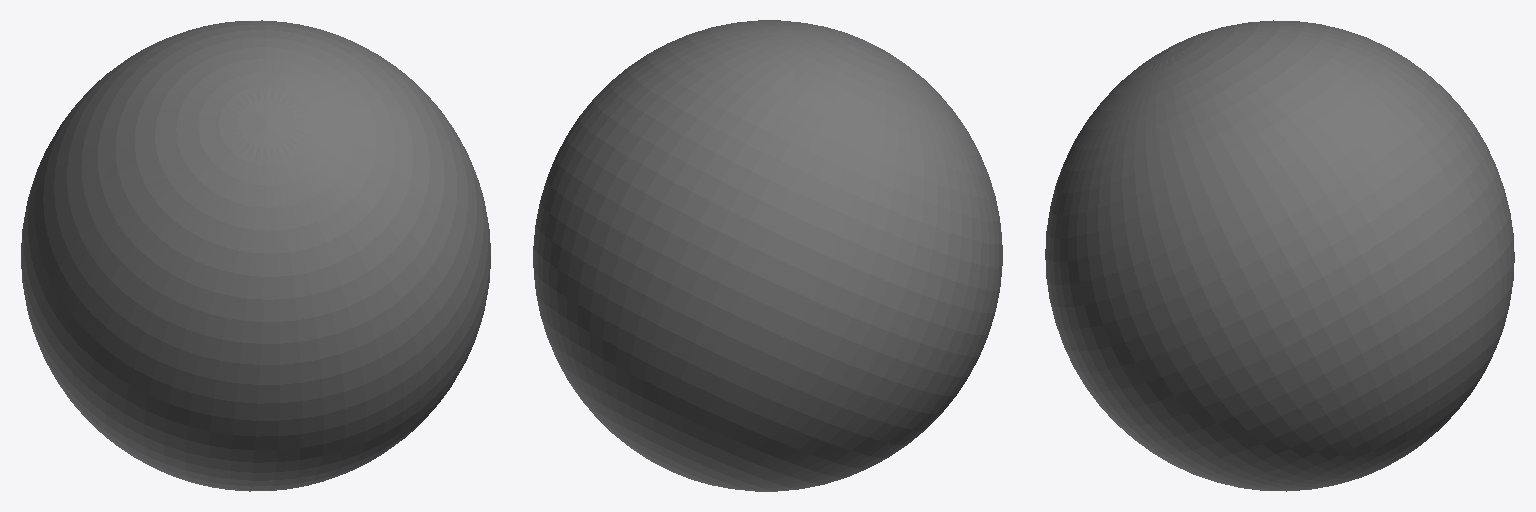
URDF robot description (7_ball):
<?xml version="1.0"?>
<robot name="7_ball">
  <link name="base">
    <visual>
      <geometry>
        <mesh filename="7_ball.obj" scale="1 1 1"/>
      </geometry>
      <material name="gray">
        <color rgba="0.5 0.5 0.5 1.0"/>
      </material>
    </visual>
    <collision>
      <geometry>
        <mesh filename="7_ball.obj" scale="1 1 1"/>
      </geometry>
    </collision>
    <inertial>
      <mass value="1.000"/>
      <inertia
          ixx="0.001034" ixy="0.000000" ixz="0.000000"
          iyy="0.001032" iyz="0.000000"
          izz="0.001030"/>
      <origin xyz="0.124680 -0.001430 0.833091" rpy="0 0 0"/>
    </inertial>
  </link>
</robot>

--- What the picture shows (computed from the rendered views, not written in the file) ---
The picture shows the robot from 3 angles, left to right: view 1: azimuth 30°, elevation 25°; view 2: azimuth 150°, elevation 25°; view 3: azimuth 270°, elevation 25°; orthographic projection.
Model 7_ball with 1 links and 0 joints (none), rooted at base, posed every joint at zero.
Links seen in each view (by area): view 1: base; view 2: base; view 3: base.
Boxes of the visible links, left/top/right/bottom form: base: left=21, top=20, right=490, bottom=491; base: left=533, top=20, right=1002, bottom=491; base: left=1045, top=20, right=1514, bottom=491.
Size in the robot's own frame: 0.0785 by 0.0787 by 0.0789 metres.
Meshes: 1 distinct files referenced, 1 mesh visuals loaded (1 OBJ).
